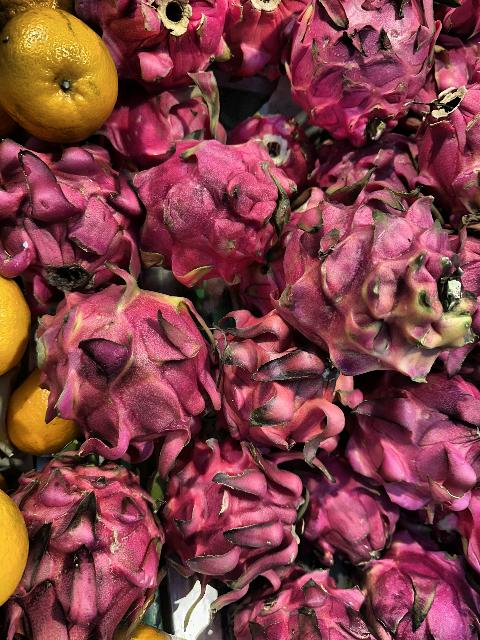buah-naga-belum-matang: (282, 189, 478, 375), (36, 278, 216, 457)
buah-naga-matang: (8, 452, 168, 636), (0, 127, 148, 296), (164, 442, 310, 596), (350, 356, 480, 522), (284, 0, 434, 142), (126, 131, 288, 261), (214, 305, 324, 459), (82, 0, 234, 78), (230, 562, 376, 640), (370, 540, 480, 640), (420, 84, 480, 220)
